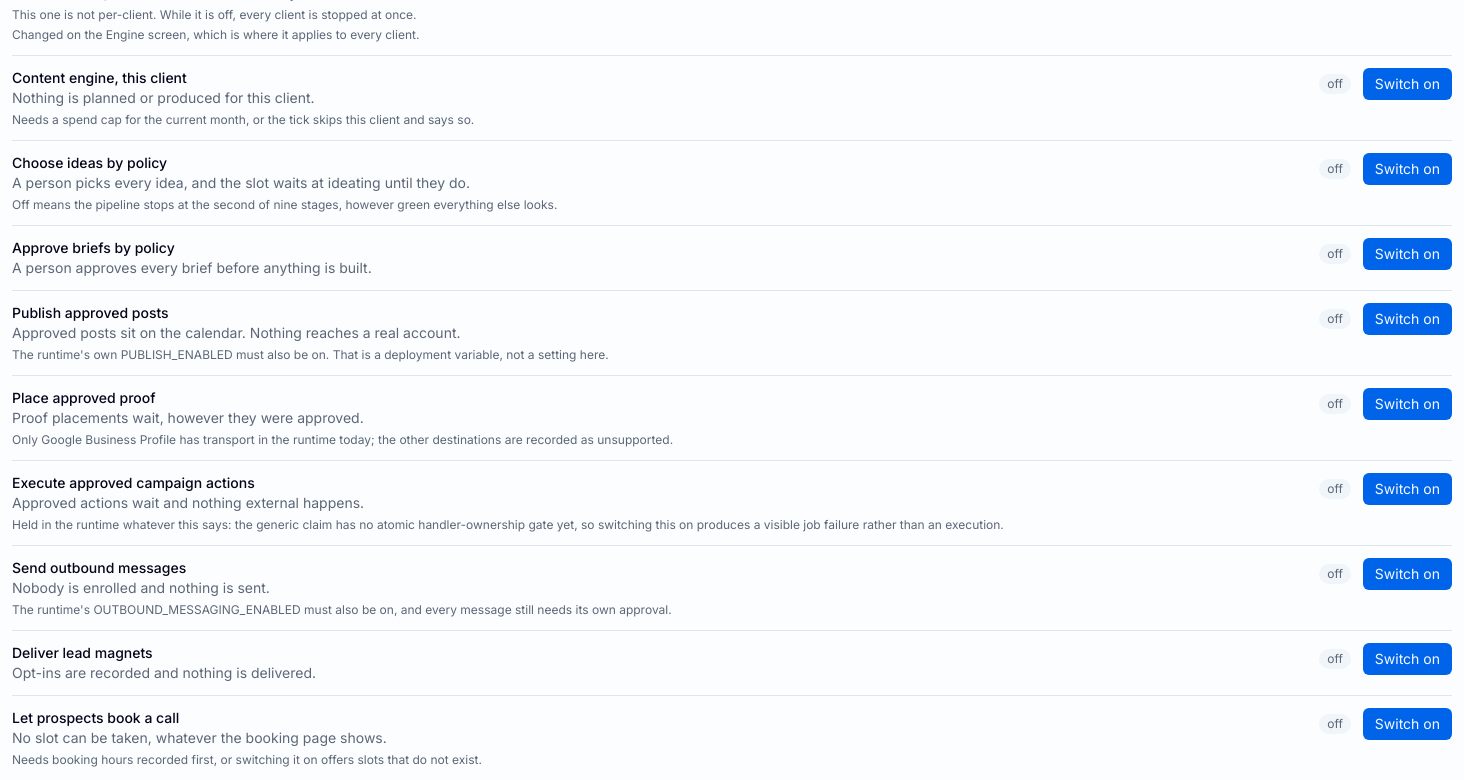
Test: every switch in one place › shows the refusal, because these functions explain themselves
The width and height of the screenshot is (1464, 780).
(page scrolled)
Click the button with aria-label "Switch on Let prospects book a call" at (1407, 724), box [1363, 708, 1452, 740]
(page scrolled)
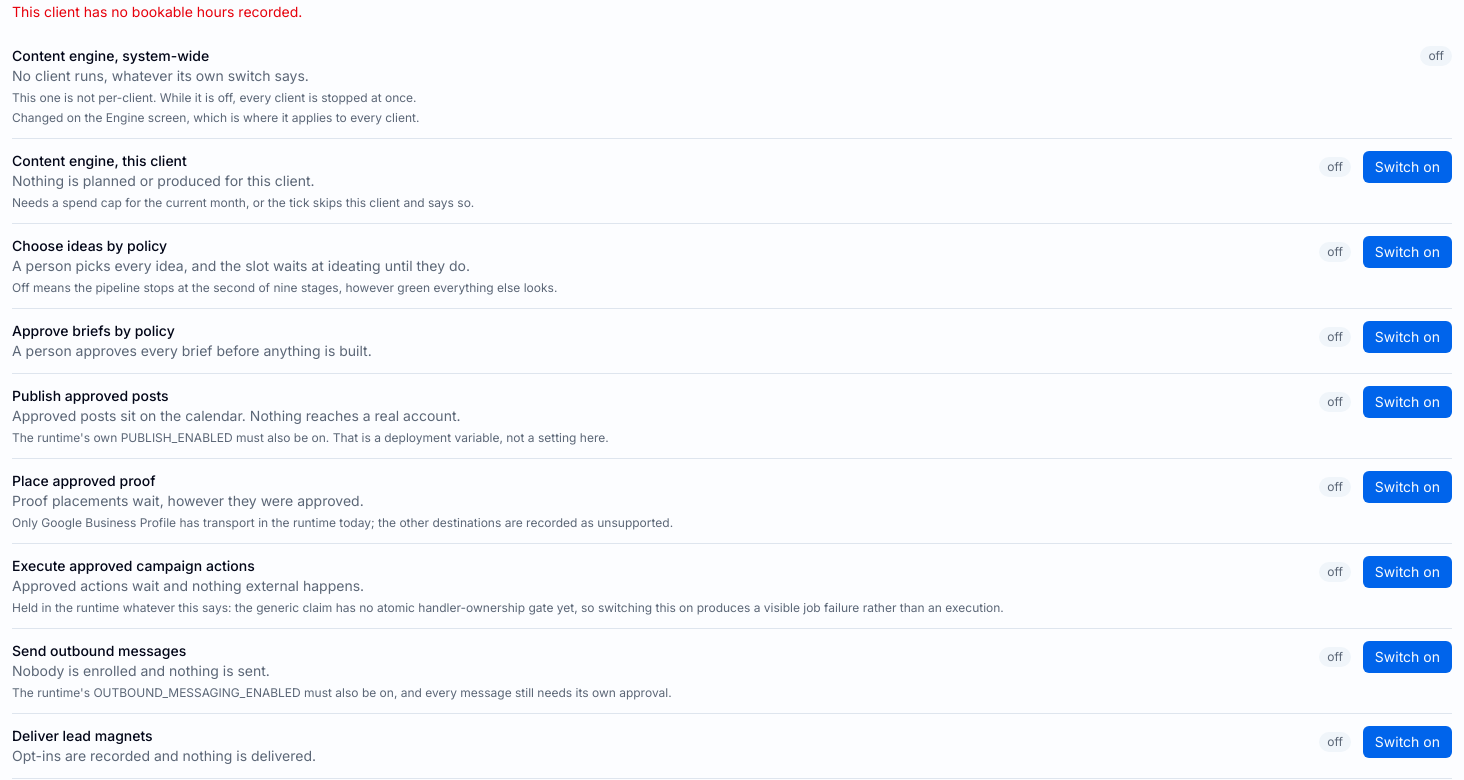
Check: the message shows "no bookable hours recorded", box [12, 3, 302, 20]
